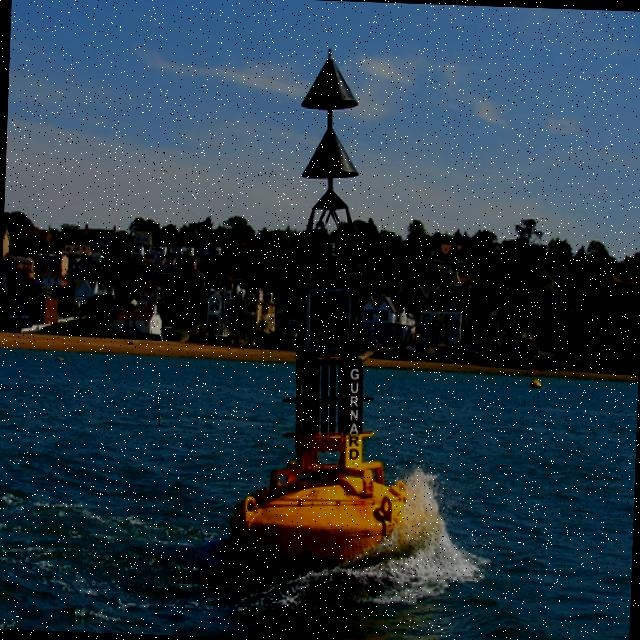marque: (227, 45, 458, 584)
